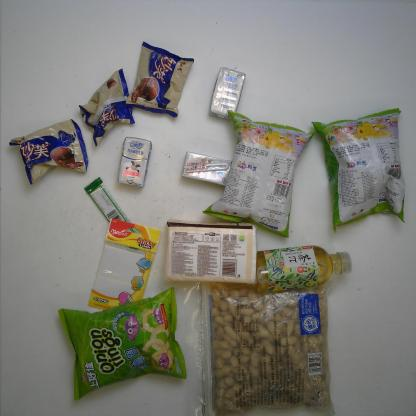Chocolate: (85, 176, 131, 232)
Dessert: (127, 40, 196, 122), (6, 120, 90, 185), (77, 66, 135, 146)
Dried Food: (192, 275, 340, 416)
Drink: (253, 243, 354, 295)
Milk: (209, 64, 247, 119), (115, 136, 153, 188), (180, 153, 235, 187)
Puffed Food: (57, 287, 187, 403), (203, 109, 318, 239), (312, 106, 408, 230)
Stationery: (86, 220, 161, 310)
Tissue: (164, 217, 259, 286)
